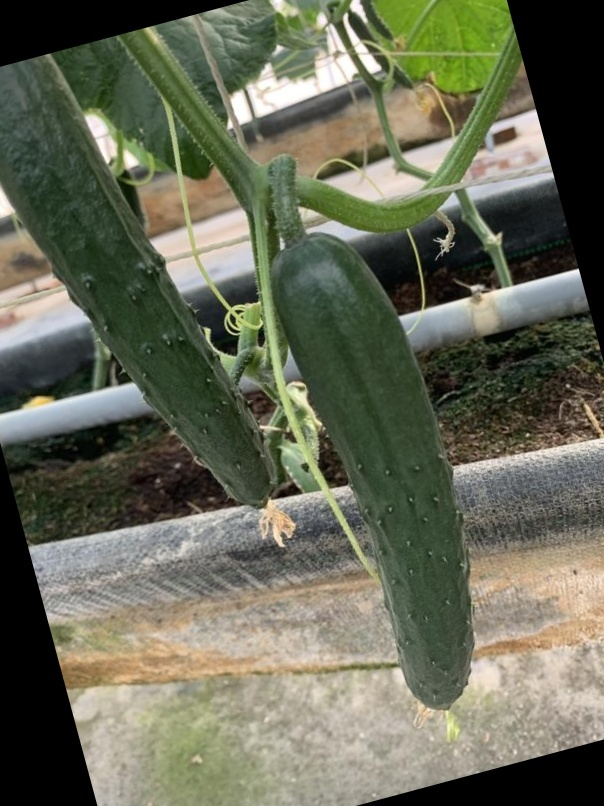mature: (0, 52, 282, 526), (290, 241, 478, 724)
